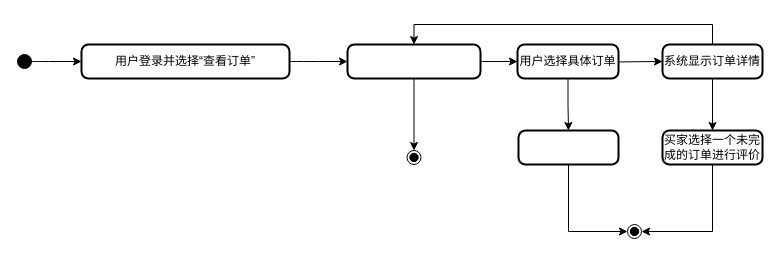
Some shapes in this 781 by 257 pixel diagram are drawn without their labels. Each missing label, with the box of its shape:
买家选择取消订单: (517, 129, 619, 165)
系统根据用户类型加载订单列表: (346, 43, 481, 79)
